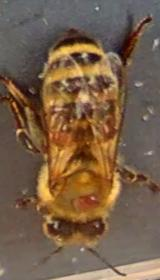varroa_mite: (63, 182, 101, 214), (43, 124, 82, 154), (101, 108, 117, 146)
